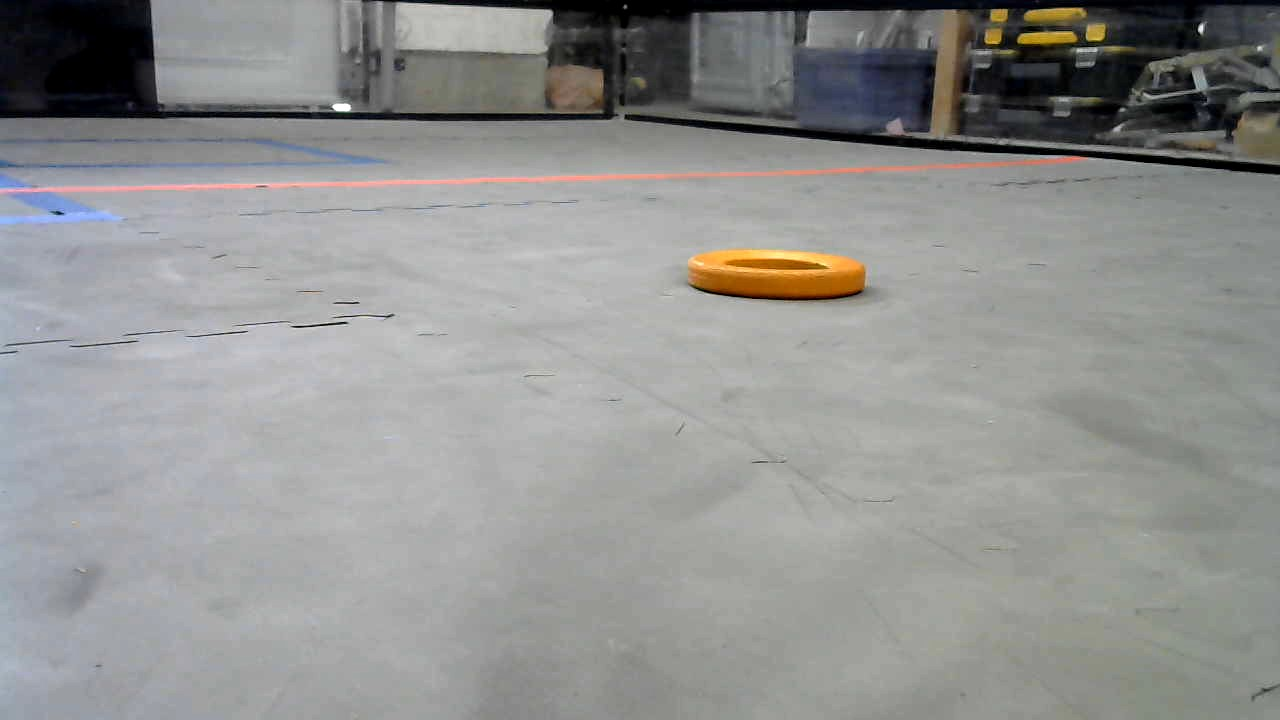OneStack: (687, 246, 868, 298)
